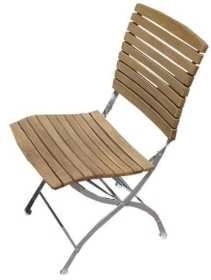obstacle: (1, 0, 209, 279)
